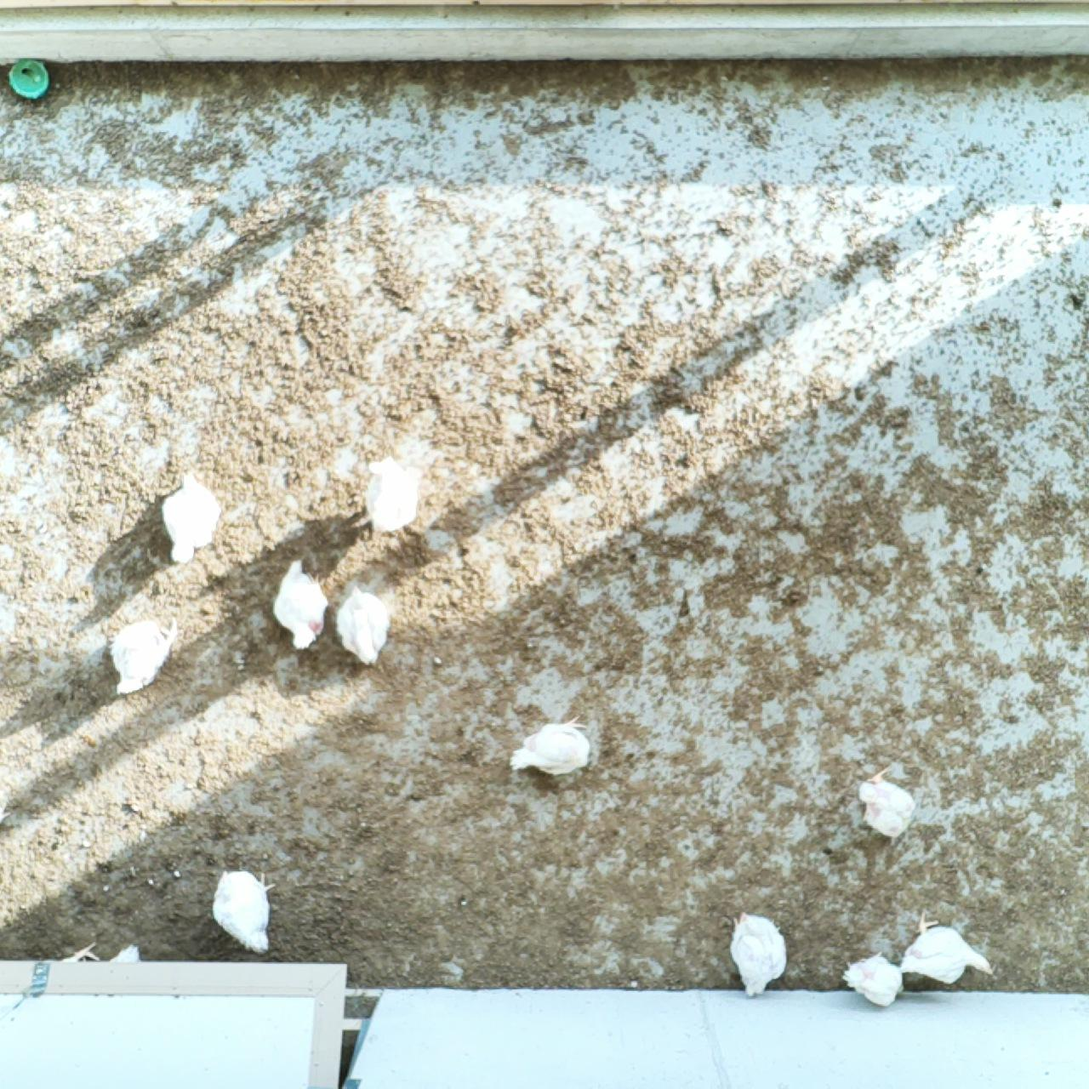chicken: (896, 905, 997, 988), (106, 611, 184, 699), (159, 468, 226, 566), (267, 555, 332, 653), (212, 863, 277, 958), (726, 908, 791, 1002), (507, 711, 595, 780), (363, 455, 429, 543), (854, 762, 919, 842), (332, 581, 392, 667), (835, 946, 906, 1009)
